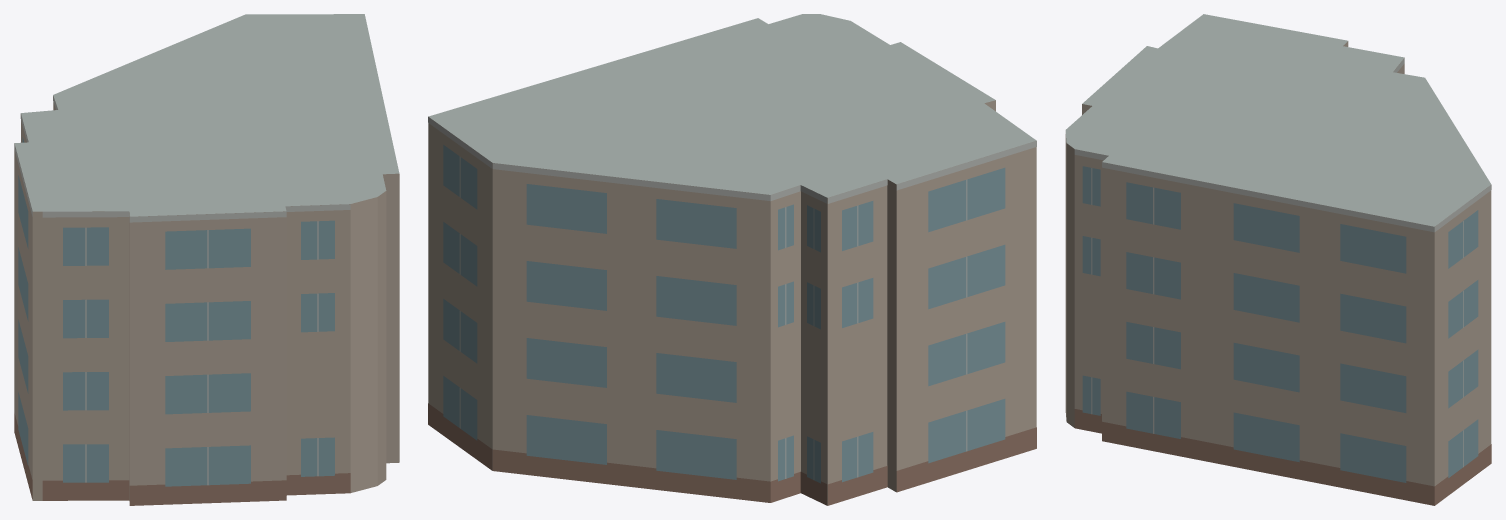
Rendered from survey-upis-32693118.glb.
3 views of the same model, side by side, from view 1: azimuth 30°, elevation 25°; view 2: azimuth 150°, elevation 25°; view 3: azimuth 270°, elevation 25° (orthographic). The views are drawn at different scales.
Visible parts, largest first — view 1: survey-upis-32693118.tmp; view 2: survey-upis-32693118.tmp; view 3: survey-upis-32693118.tmp.
Part boxes in pixels (x1,y1,x2,y2): survey-upis-32693118.tmp: [14, 14, 399, 505]; survey-upis-32693118.tmp: [428, 14, 1036, 505]; survey-upis-32693118.tmp: [1065, 14, 1491, 505].
Bounding box in the file's own units: 19.79 × 12.1 × 16.75.
